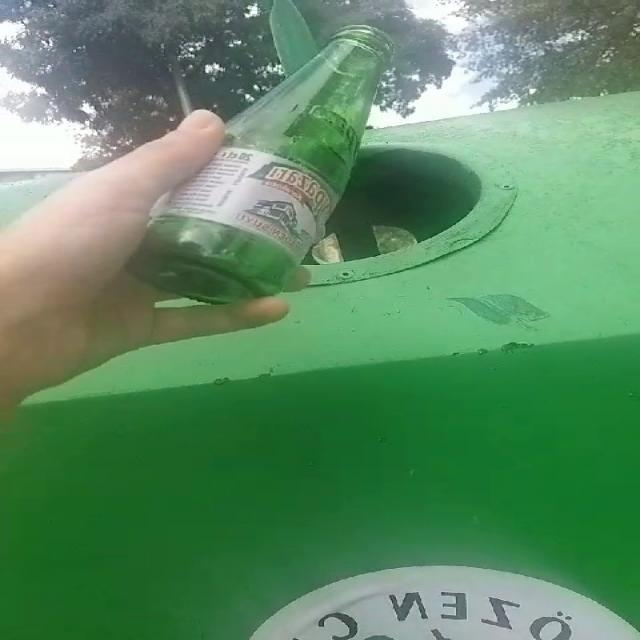Glass: (129, 25, 392, 304)
